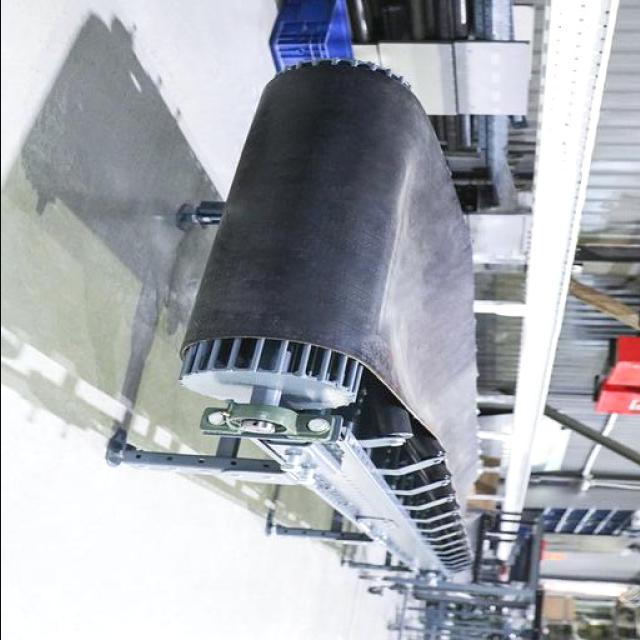conveyor: (181, 60, 482, 565)
